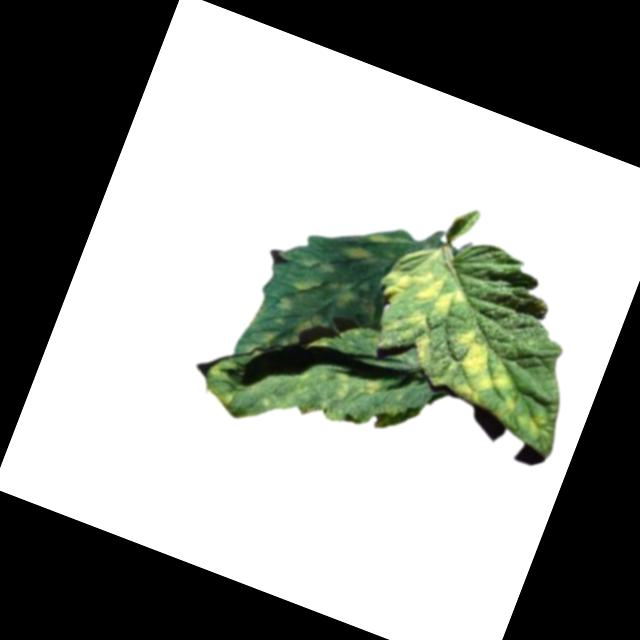Leaf_Mold: (432, 323, 537, 424), (377, 255, 472, 325), (389, 306, 442, 369), (284, 305, 334, 356), (321, 273, 360, 313), (339, 240, 379, 271), (291, 271, 324, 299), (361, 376, 384, 399), (214, 389, 235, 410)
